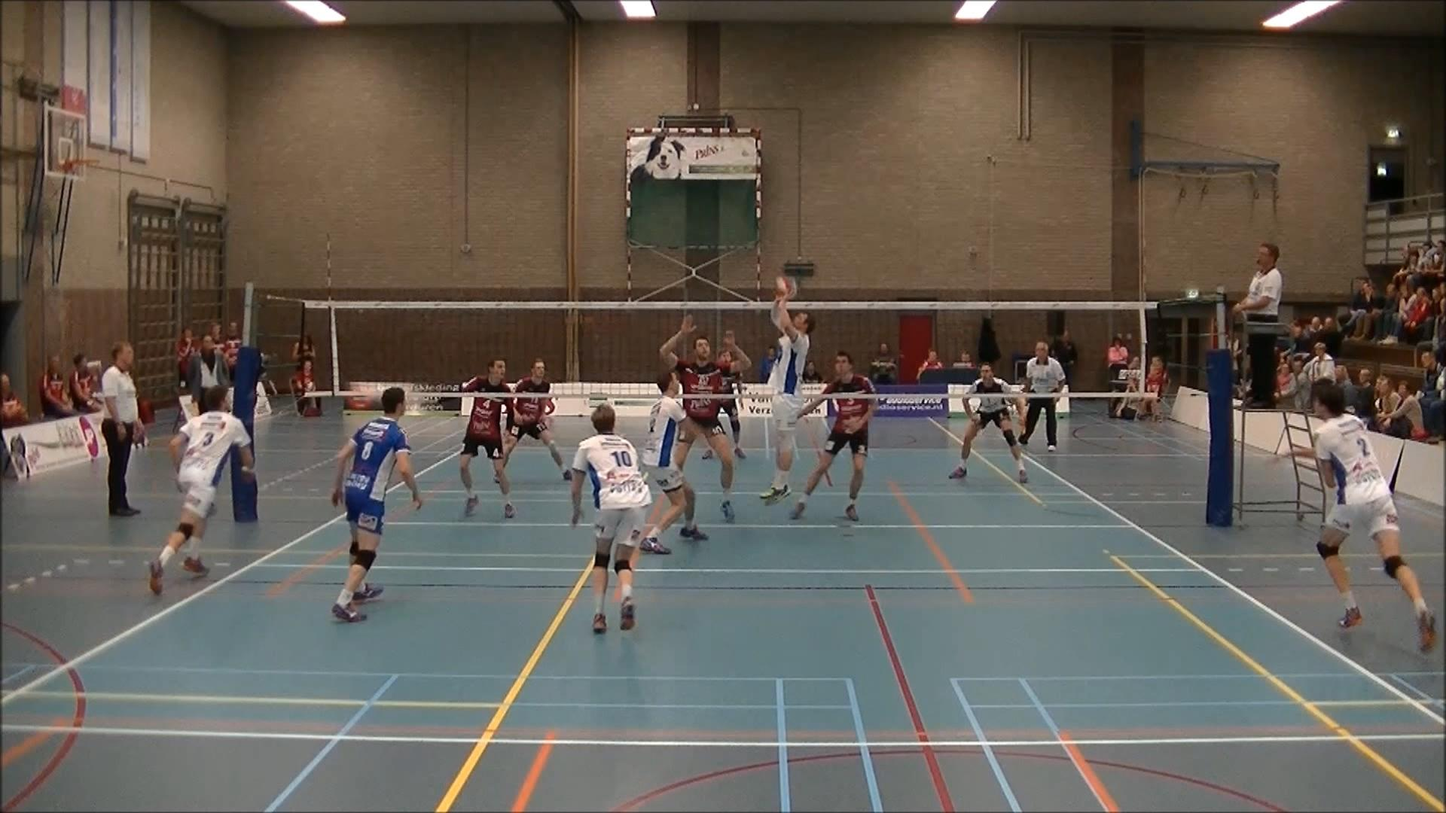Player: (1312, 381, 1435, 651), (148, 386, 253, 595), (331, 387, 423, 622), (571, 404, 651, 633), (660, 316, 734, 522), (639, 372, 707, 553), (791, 397, 877, 521), (949, 364, 1027, 483), (459, 360, 514, 518), (504, 358, 571, 478), (720, 398, 746, 458)
Set: (762, 275, 814, 508)
ball: (771, 263, 803, 303)
